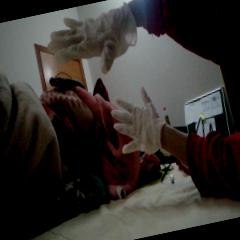gloved: (42, 2, 142, 84), (107, 85, 165, 156)
